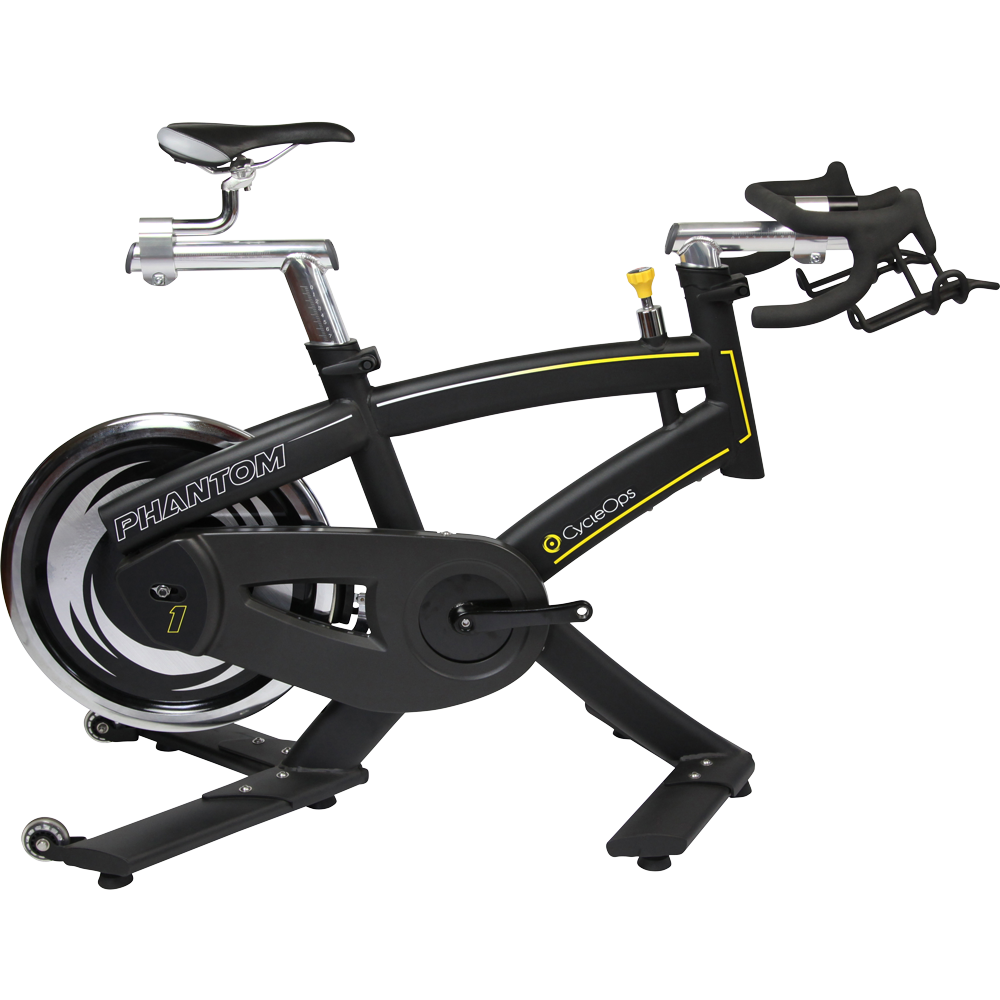gym_bike: (23, 112, 985, 923)
